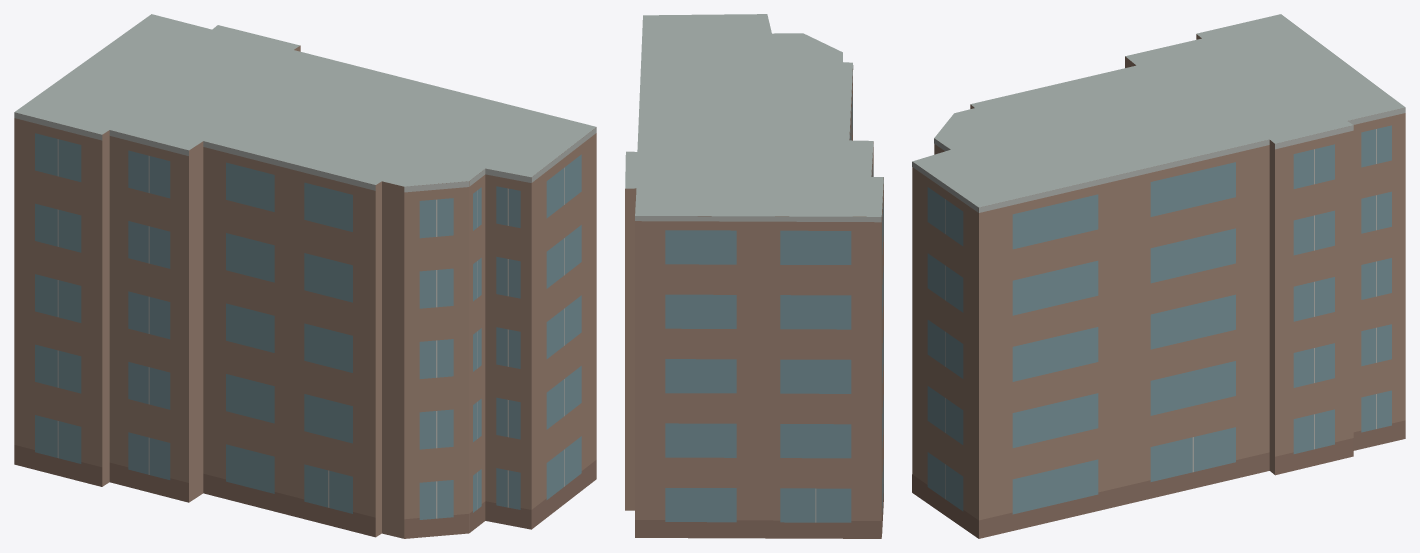
The model's file is survey-upis-32719416.glb.
3 views of the same model, side by side, from view 1: azimuth 30°, elevation 25°; view 2: azimuth 150°, elevation 25°; view 3: azimuth 270°, elevation 25° (orthographic). The views are drawn at different scales.
Visible parts, largest first — view 1: survey-upis-32719416.tmp; view 2: survey-upis-32719416.tmp; view 3: survey-upis-32719416.tmp.
Part boxes in pixels (x1,y1,x2,y2): survey-upis-32719416.tmp: (14,14,596,538); survey-upis-32719416.tmp: (625,14,883,538); survey-upis-32719416.tmp: (912,14,1405,538).
Size of the model in its own units: 18.49 by 14.75 by 19.92.
